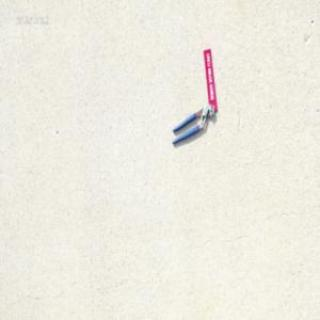LuggageTagtrack_idkeyframe: (202, 46, 216, 110)
Pliertrack_idkeyframe: (169, 101, 214, 145)
